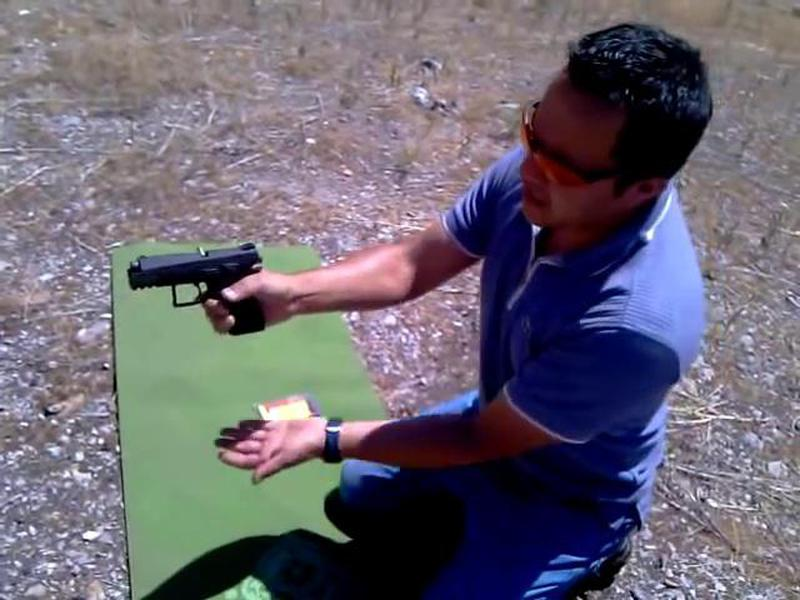Pistola: (111, 235, 286, 344)
